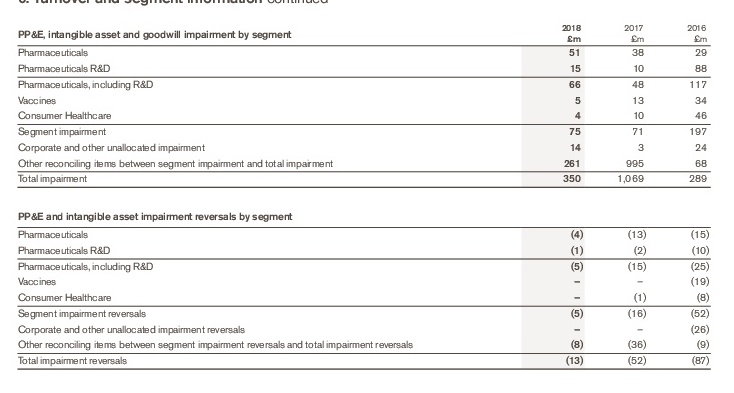table: (0, 0, 734, 393)
